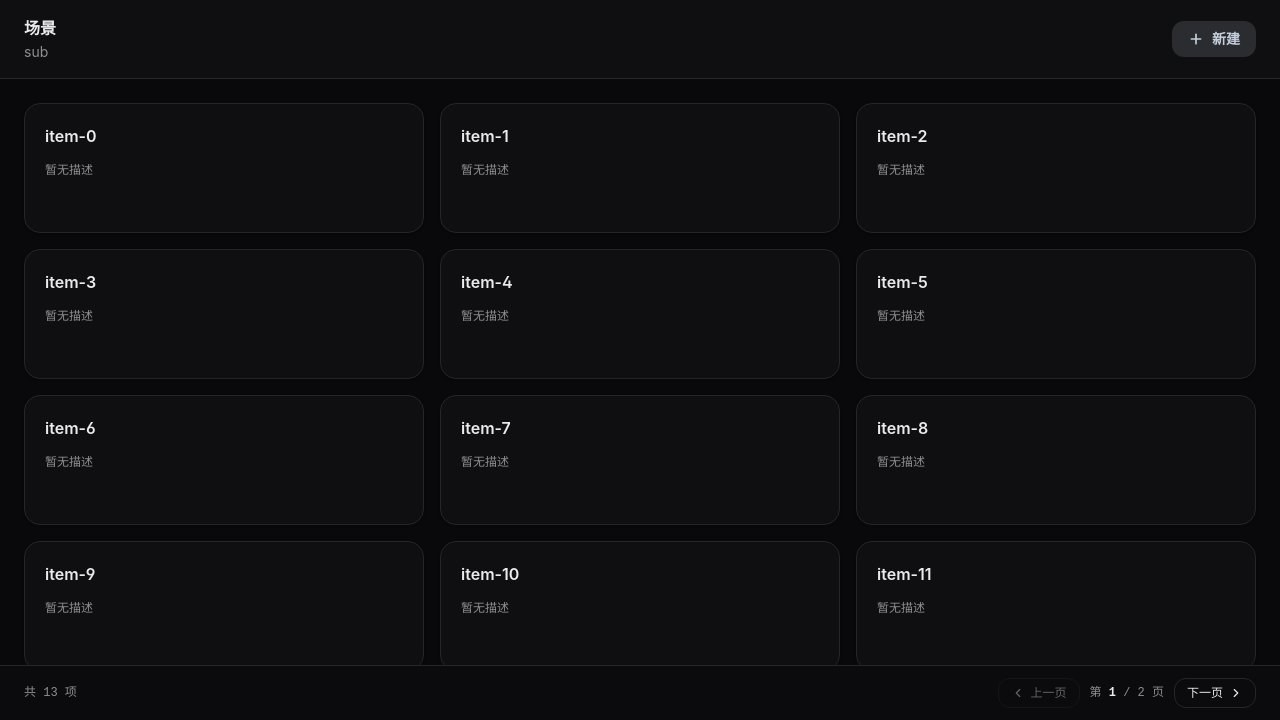
Test case: ConfigListShell 分页 › 点「下一页」翻到第 2 页，边界按钮正确禁用
expect the button "上一页" is disabled: met, box 998,678 -> 1080,708
Click the button "下一页". click: (1215, 693)
box: 1174,678 -> 1256,708
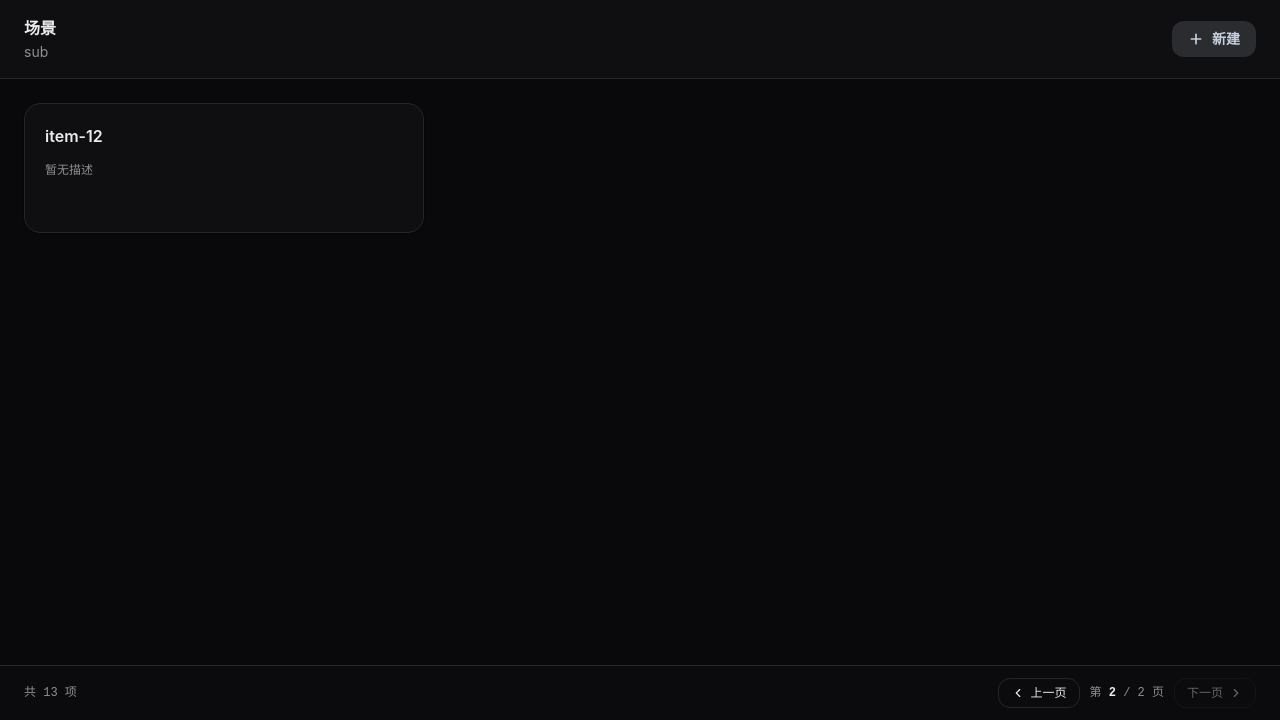
expect the text "item-12" is shown: met, box 45,124 -> 103,148
expect the button "item-0" is gone: met
expect the button "下一页" is disabled: met, box 1174,678 -> 1256,708
